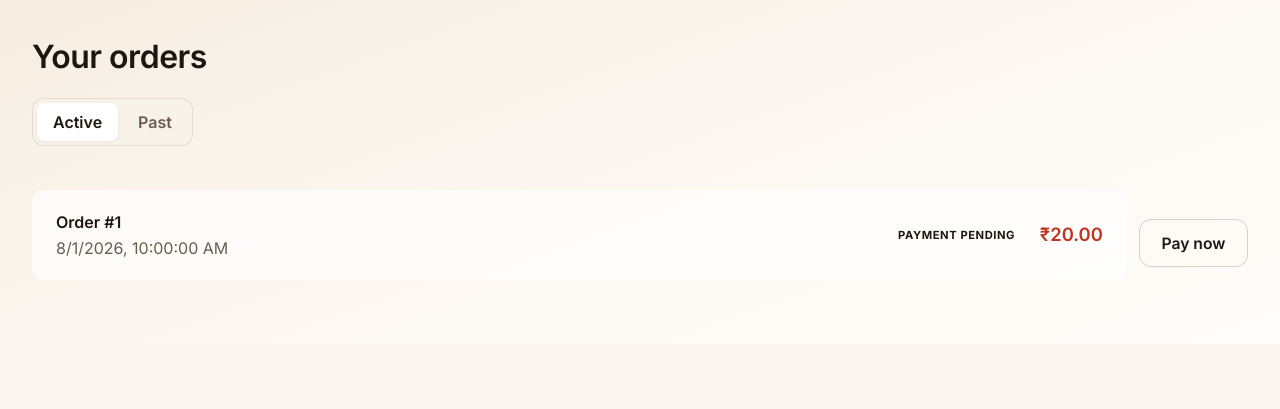
Test: OrdersPage payment › surfaces a failure to reopen payment
The image size is (1280, 409).
Check: the text "Order #1" is shown, box [56, 212, 121, 232]
Click the button "Pay now" at (1193, 243), box [1139, 219, 1248, 267]
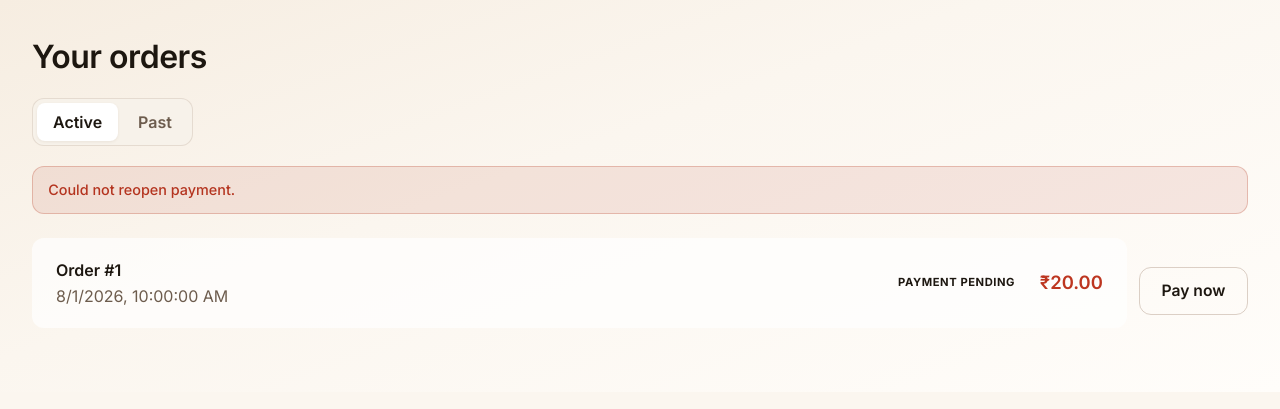
Check: the text "Could not reopen payment." is shown, box [32, 166, 1248, 214]
